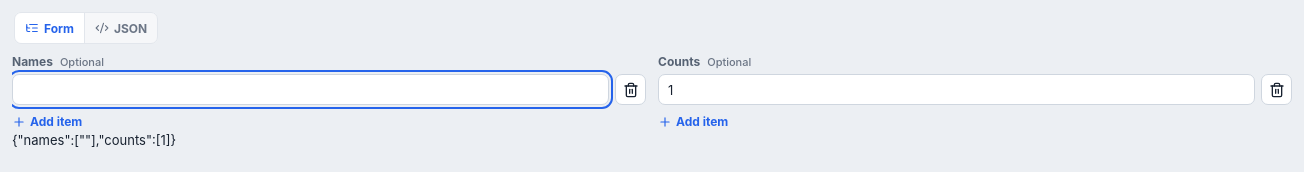
WorkflowInputEditor › preserves scalar array input focus and does not coerce a cleared number to zero
This screenshot has width=1304, height=172.
Type "review" into the field named "Array item". click: (310, 90)
box: [12,74,609,105]
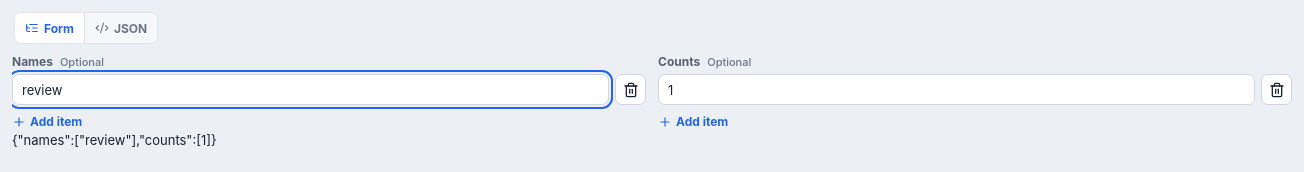
Clear the number field named "Array item". click: (956, 90)
box: [658,74,1255,105]
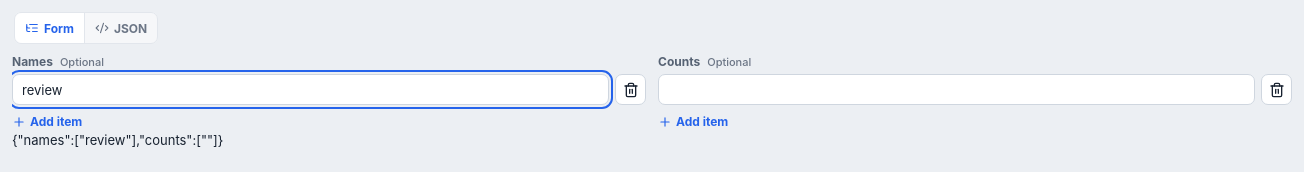
Expected: the text "{\"names\":[\"review\"],\"counts\":[\"\"]}" is shown, [12,132,223,148]
